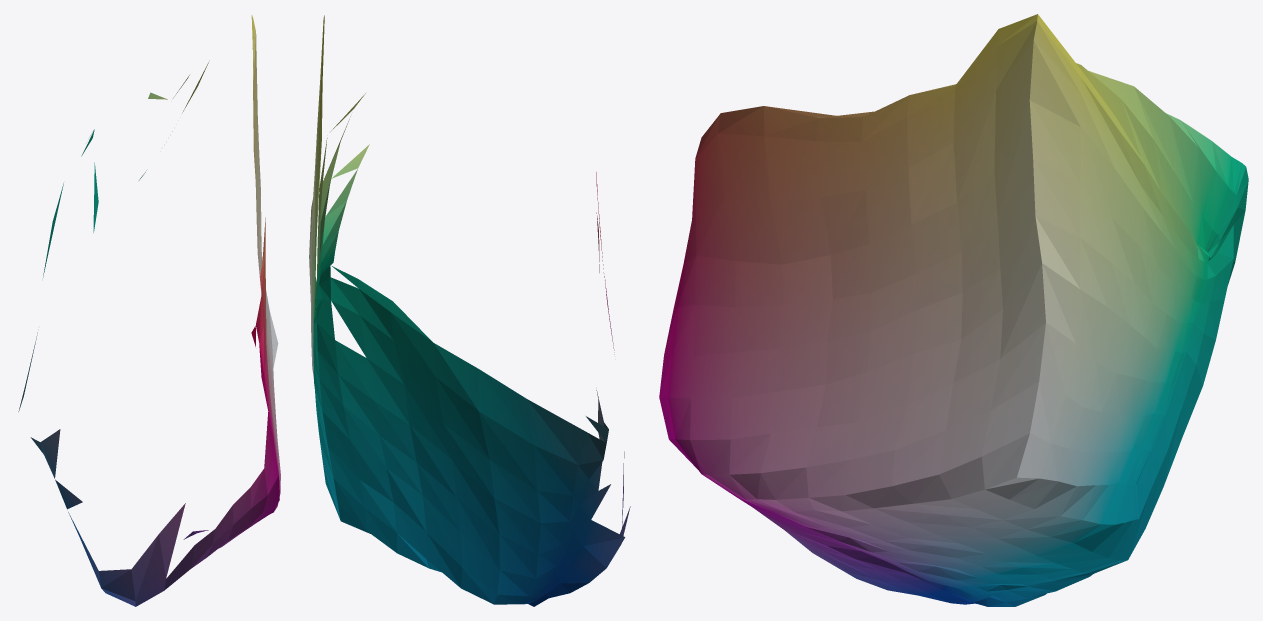
The model's file is epson_in_abL_output(2).glb.
3 views of the same model, side by side, from view 1: azimuth 30°, elevation 25°; view 2: azimuth 150°, elevation 25°; view 3: azimuth 270°, elevation 25° (orthographic). The views are drawn at different scales.
Parts seen in each view (by area): view 1: world; view 2: world; view 3: world.
Boxes of the visible parts, <box> form: world: <box>18,15,280,606</box>; world: <box>309,15,630,606</box>; world: <box>659,14,1248,606</box>.
Size of the model in its own units: 93.87 by 172 by 131.
